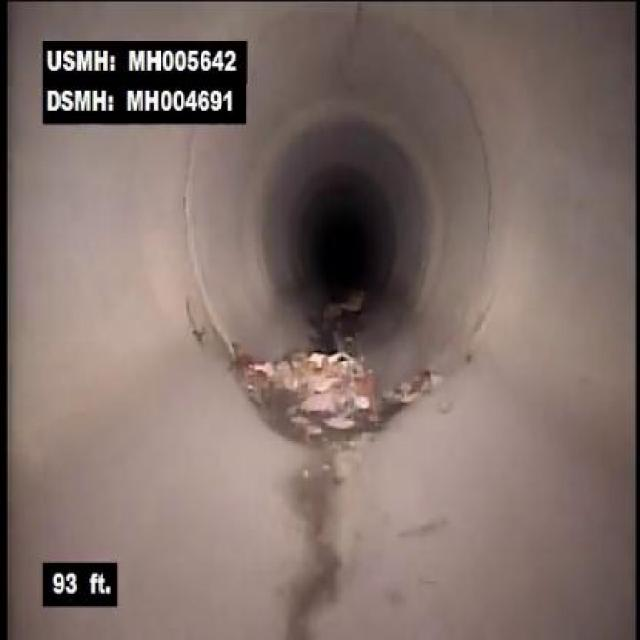Debris: (239, 325, 426, 446)
